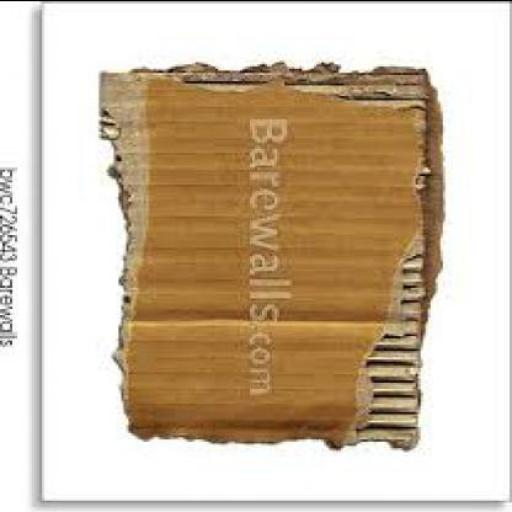cardboard: (101, 59, 448, 447)
